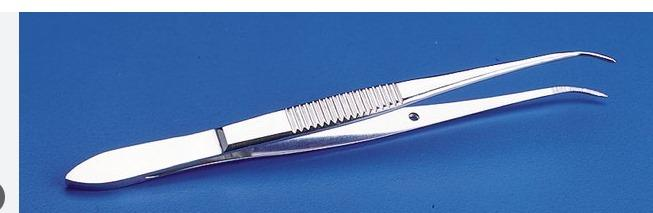Disscting Forceps: (56, 40, 621, 197)
